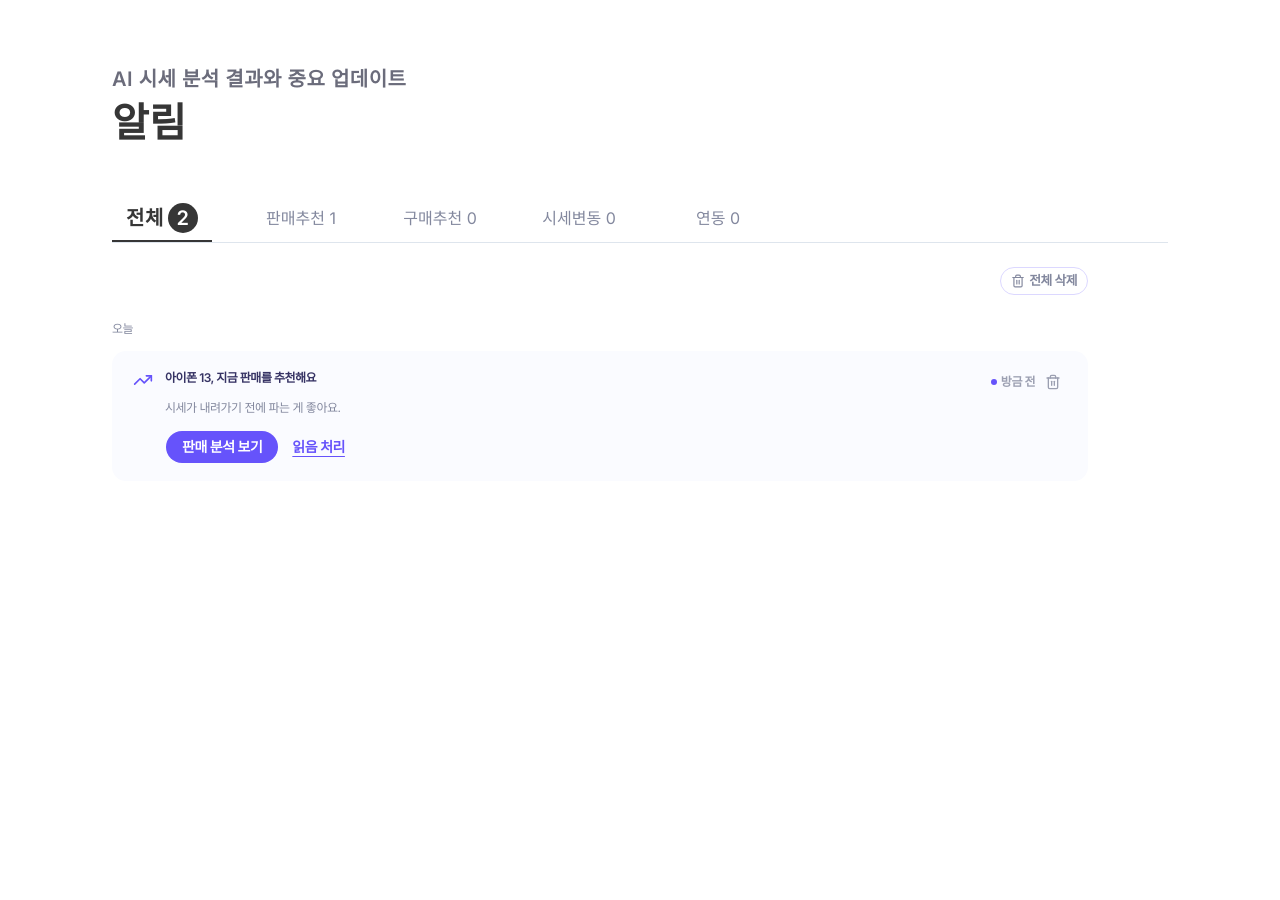
Test case: 일괄 삭제에 실패하면 확인 창에 오류를 보여 주고 목록은 그대로 둔다
Click the button "전체 삭제" at [1044, 281], box [1000,267,1088,295]
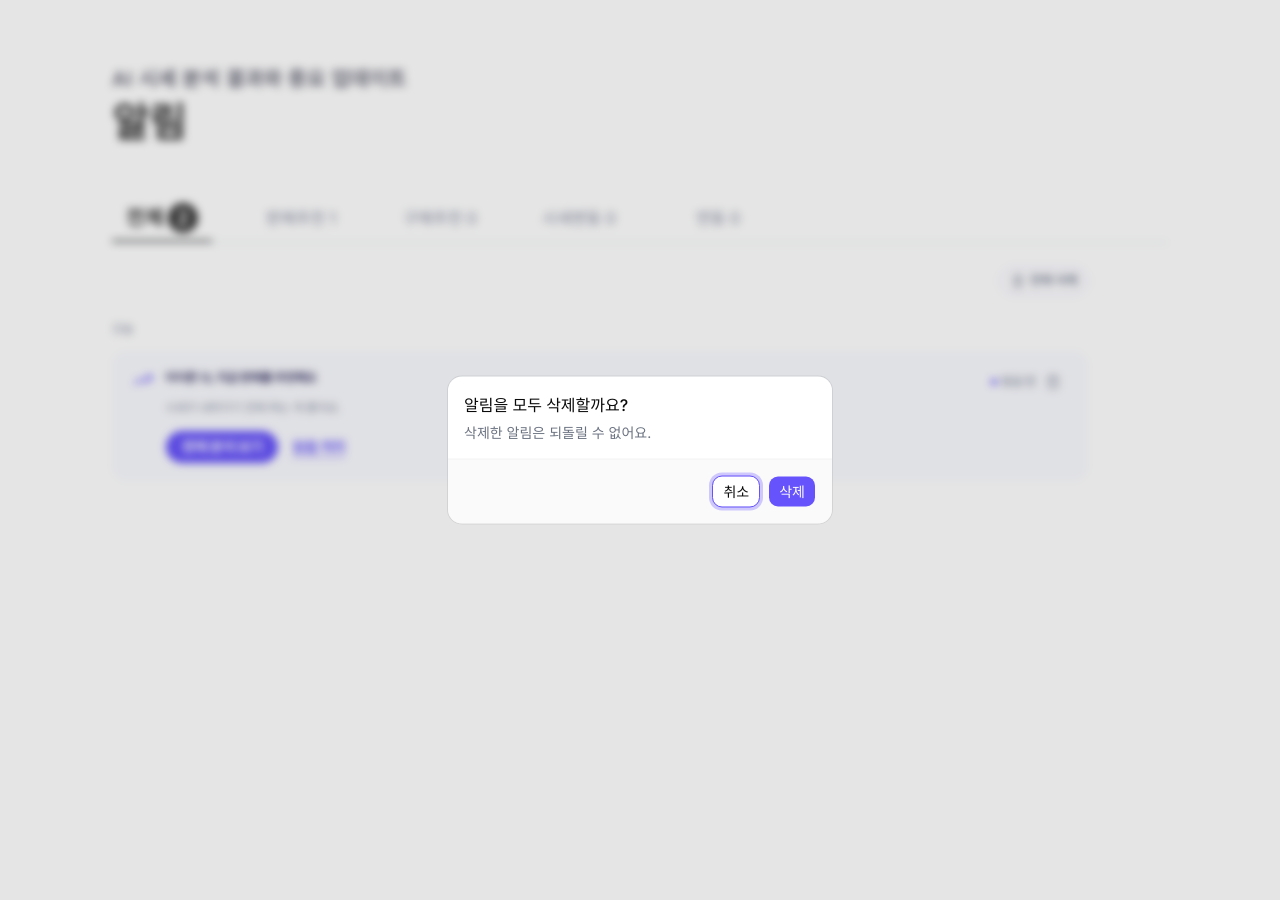
Click the button "삭제" at [792, 492], box [768,476,816,508]
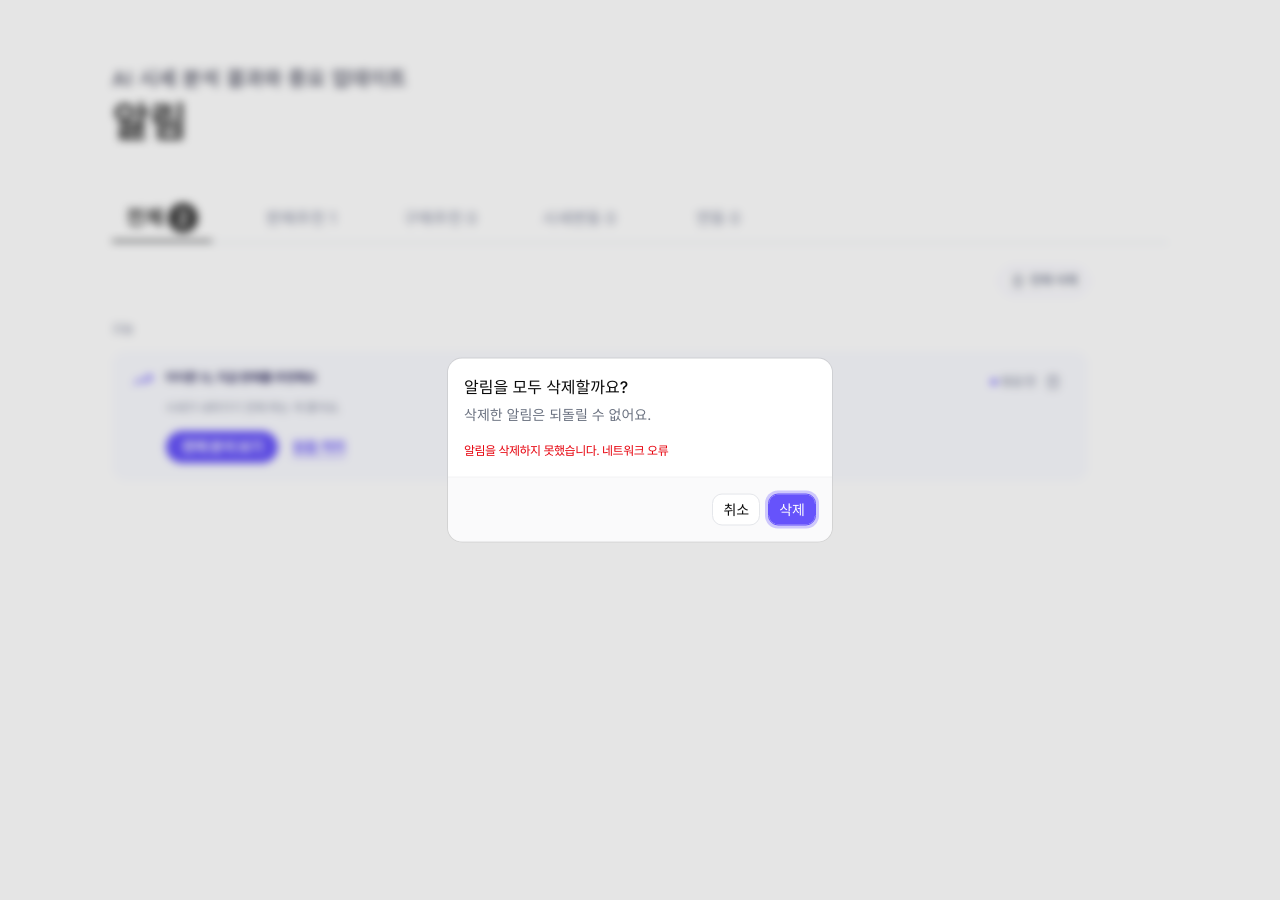
Expected: the heading "아이폰 13, 지금 판매를 추천해요" is shown, [165,368,316,388]
Result: the message reads "알림을 삭제하지 못했습니다. 네트워크 오류" at [464,442,668,458]
